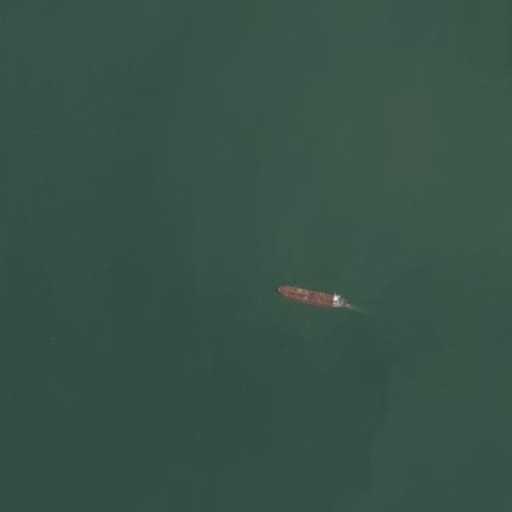ship: (273, 281, 345, 313)
